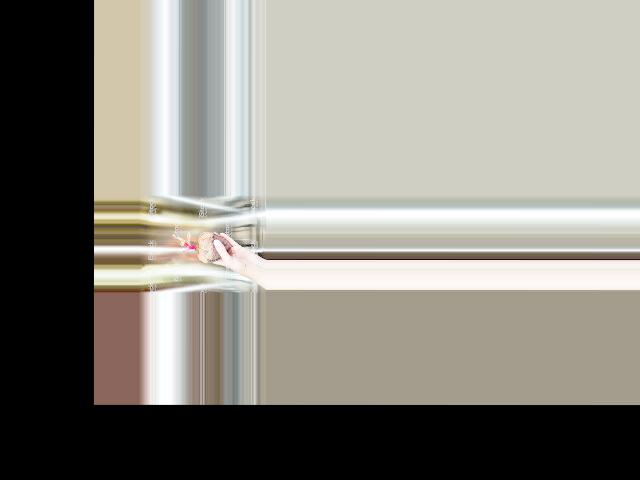beet: (173, 231, 230, 262)
